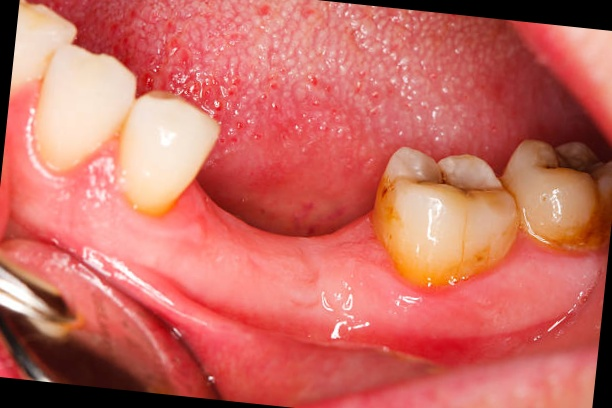Caries: (397, 150, 514, 206), (541, 141, 612, 190)
